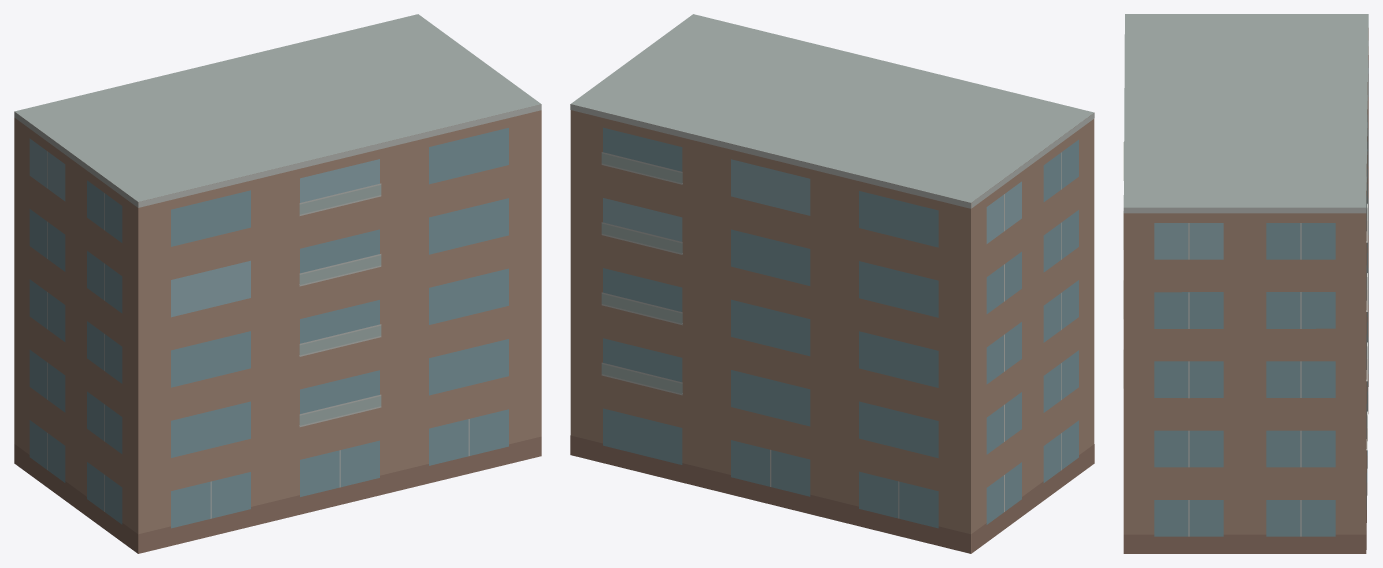
The model's file is survey-upis-32814260.glb.
3 renders of one model, left to right at view 1: azimuth 30°, elevation 25°; view 2: azimuth 150°, elevation 25°; view 3: azimuth 270°, elevation 25°, orthographic.
Visible parts, largest first — view 1: survey-upis-32814260.tmp; view 2: survey-upis-32814260.tmp; view 3: survey-upis-32814260.tmp.
Part boxes in pixels (<box>): survey-upis-32814260.tmp: <box>14,14,541,553</box>; survey-upis-32814260.tmp: <box>570,14,1094,553</box>; survey-upis-32814260.tmp: <box>1123,14,1368,553</box>.
Size of the model in its own units: 17.27 by 14.4 by 9.26.
